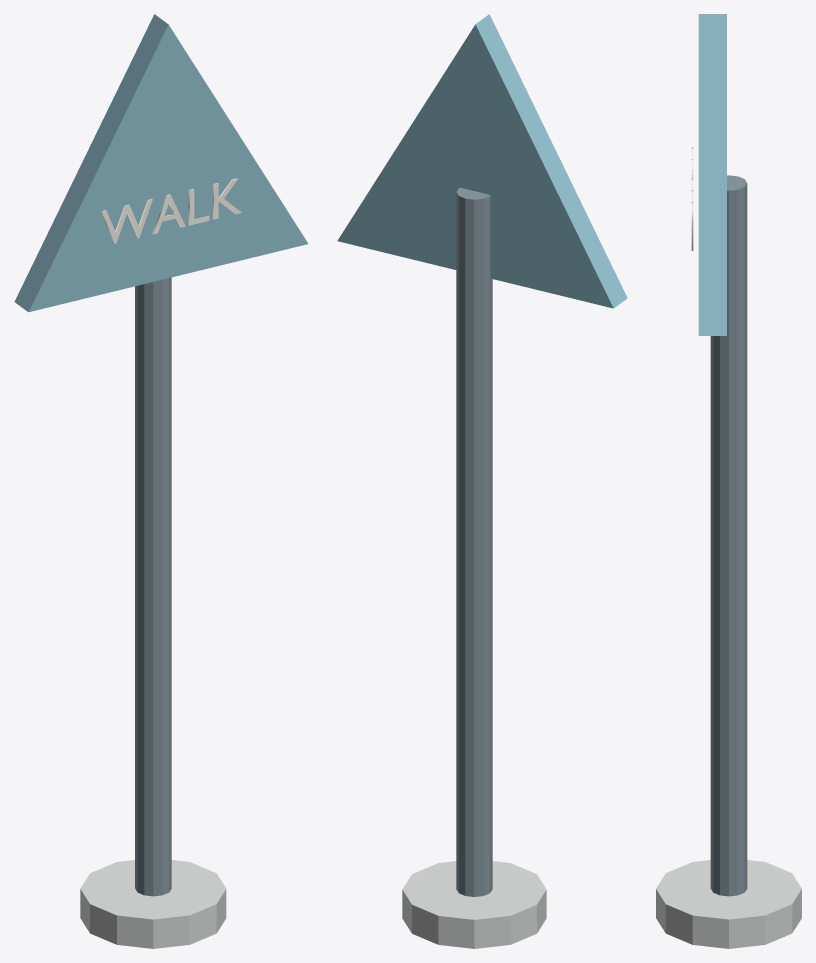
File: crosswalk.glb
The picture shows the model from 3 angles, left to right: view 1: azimuth 30°, elevation 25°; view 2: azimuth 150°, elevation 25°; view 3: azimuth 270°, elevation 25°; orthographic projection.
Visible parts, largest first — view 1: crosswalk_002, crosswalk_000, crosswalk_001, crosswalk_003; view 2: crosswalk_002, crosswalk_000, crosswalk_001; view 3: crosswalk_000, crosswalk_001, crosswalk_002.
Part boxes in pixels (x1,y1,x2,y2): crosswalk_002: (14, 14, 308, 312); crosswalk_000: (135, 277, 171, 896); crosswalk_001: (80, 860, 226, 948); crosswalk_003: (101, 178, 241, 243); crosswalk_002: (337, 14, 627, 308); crosswalk_000: (456, 187, 492, 896); crosswalk_001: (402, 861, 546, 948); crosswalk_000: (710, 175, 747, 896); crosswalk_001: (656, 860, 801, 948); crosswalk_002: (698, 14, 726, 335).
Bounding box in the file's own units: 0.7967 × 2.46 × 0.36.
